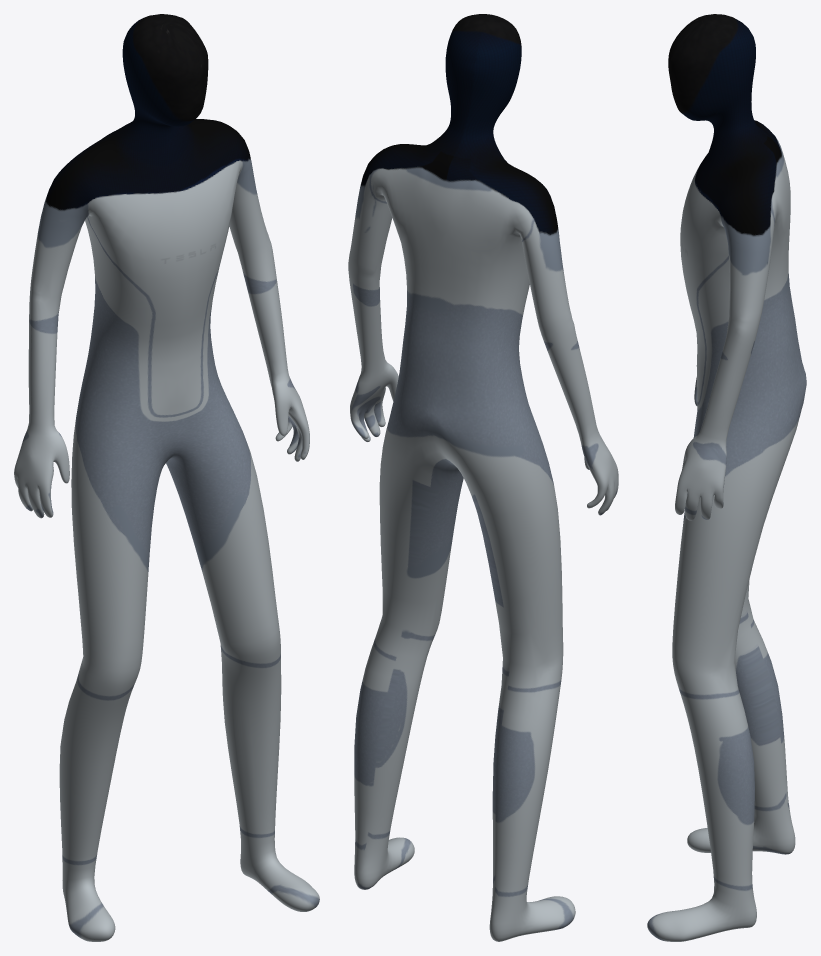
3 renders of one model, left to right at view 1: azimuth 30°, elevation 25°; view 2: azimuth 150°, elevation 25°; view 3: azimuth 270°, elevation 25°, orthographic. The views are drawn at different scales.
Parts seen in each view (by area): view 1: body1; view 2: body1; view 3: body1.
Part boxes in pixels (box(x1,y1,x2,y2)): body1: box(14, 14, 319, 941); body1: box(348, 14, 618, 941); body1: box(647, 14, 806, 941).
Bounding box in the file's own units: 0.6261 × 1.98 × 0.3309.
Materials: 1 (1 with a texture image).
